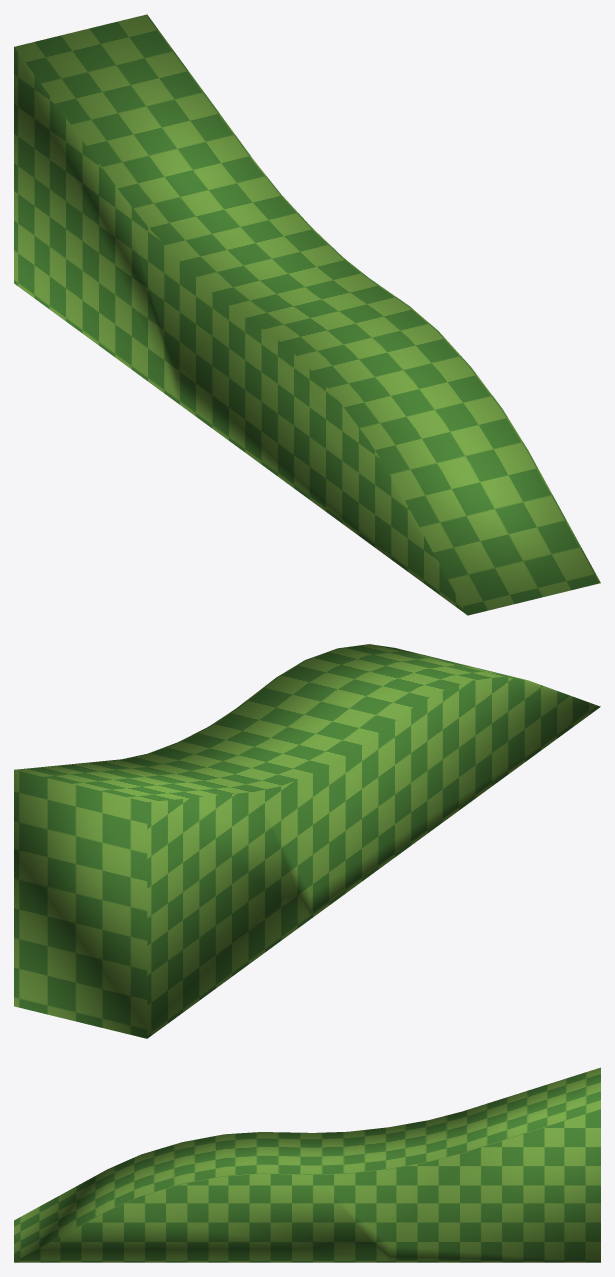
File: Curvy.fbx
The picture shows the model from 3 angles, top to bottom: view 1: azimuth 30°, elevation 25°; view 2: azimuth 150°, elevation 25°; view 3: azimuth 270°, elevation 25°; orthographic projection. The views are drawn at different scales.
Parts seen in each view (by area): view 1: Cube; view 2: Cube; view 3: Cube.
Boxes of the visible parts, x1=… form: Cube: x1=14, y1=14, x2=600, y2=615; Cube: x1=14, y1=644, x2=600, y2=1038; Cube: x1=14, y1=1067, x2=600, y2=1262.
Size of the model in its own units: 200 by 339 by 1180.
1 material, 1 textured.
